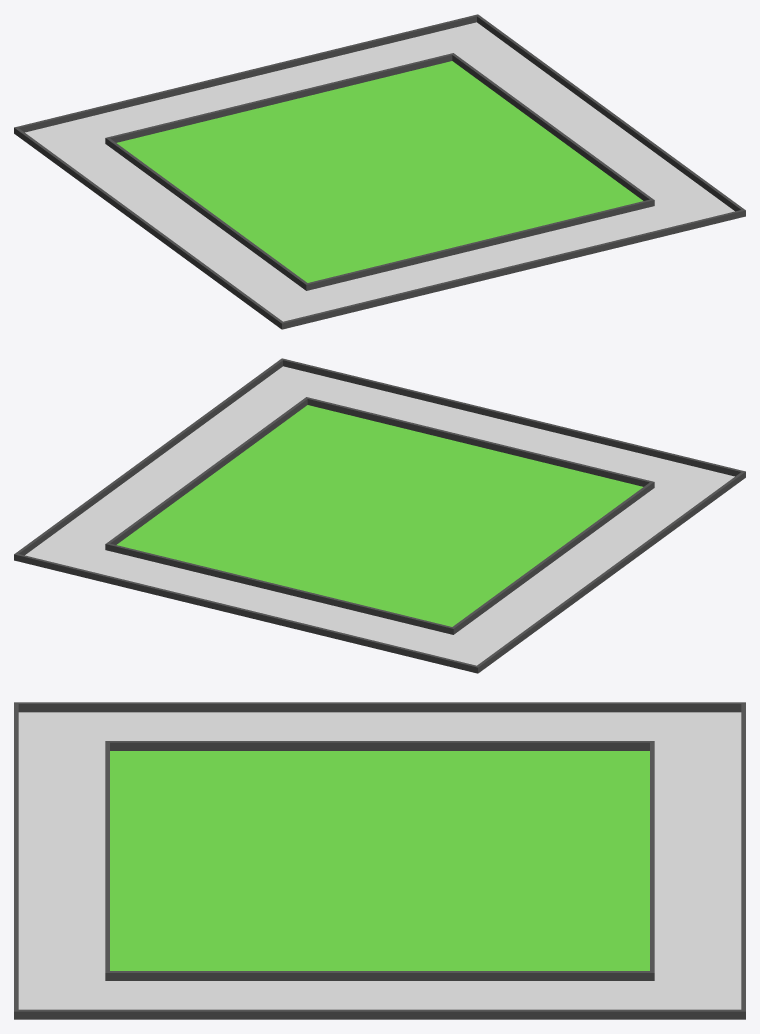
File: EnvironmentTeknofestParkur.fbx
3 renders of one model, top to bottom at view 1: azimuth 30°, elevation 25°; view 2: azimuth 150°, elevation 25°; view 3: azimuth 270°, elevation 25°, orthographic. The views are drawn at different scales.
Visible parts, largest first — view 1: SixtyGrass, Road, EightyWall, SixtyWall; view 2: SixtyGrass, Road, EightyWall, SixtyWall; view 3: SixtyGrass, Road, EightyWall, SixtyWall.
Boxes of the visible parts, bbox=[...] form: SixtyGrass: bbox=[117, 61, 642, 282]; Road: bbox=[25, 22, 734, 321]; EightyWall: bbox=[14, 14, 745, 329]; SixtyWall: bbox=[105, 53, 654, 290]; SixtyGrass: bbox=[117, 405, 642, 626]; Road: bbox=[25, 366, 734, 665]; EightyWall: bbox=[14, 358, 745, 673]; SixtyWall: bbox=[105, 397, 654, 634]; SixtyGrass: bbox=[110, 751, 649, 970]; Road: bbox=[18, 712, 741, 1009]; EightyWall: bbox=[14, 702, 745, 1019]; SixtyWall: bbox=[105, 741, 654, 980].
Size of the model in its own units: 8000 by 100 by 8000.
